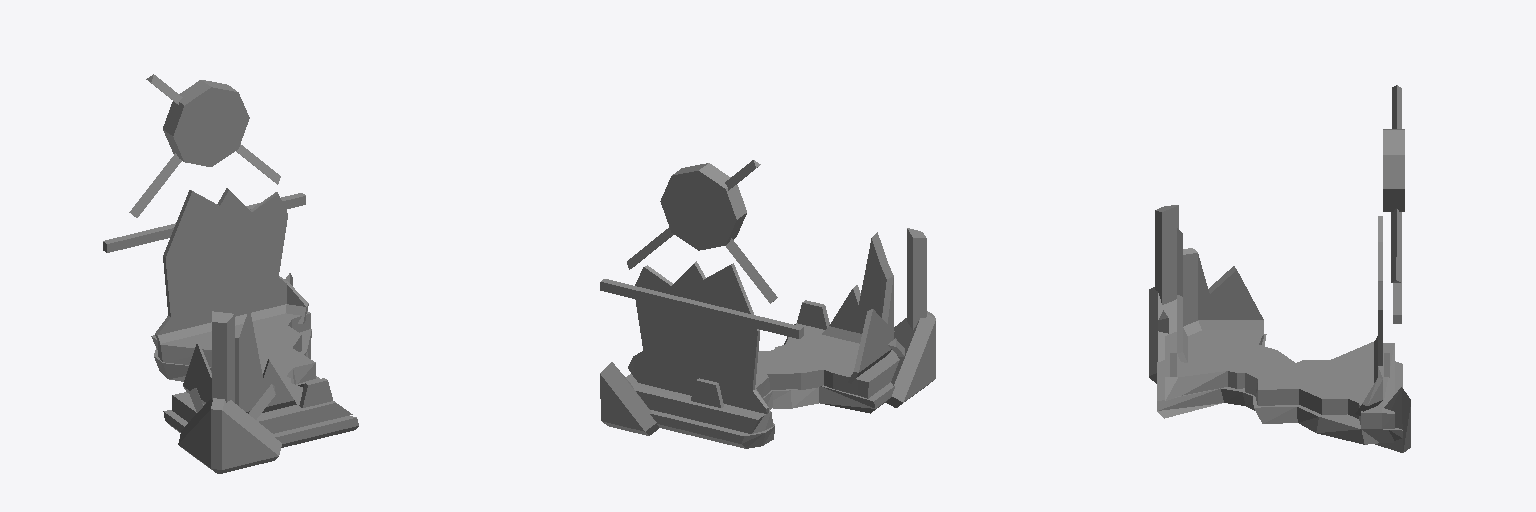
The model's file is cpz_obj_breakboxtall_brk_010.obj.
The picture shows the model from 3 angles: view 1: azimuth 30°, elevation 25°; view 2: azimuth 150°, elevation 25°; view 3: azimuth 270°, elevation 25°; orthographic projection.
Visible parts, largest first — view 1: cpz_glass_tn1_glasstube, cpz_metal_yy_slop_cmn_dpn, cpz_yy1_road_cmn_dp, cpz_metal_st1_tank01_cmn_dpnE, ccp_metal_yy_yelow_Cmn_dpn; view 2: cpz_glass_tn1_glasstube, cpz_metal_yy_slop_cmn_dpn, cpz_yy1_road_cmn_dp, ccp_metal_yy_yelow_Cmn_dpn, ccp_metal_yy_circle_Cmn_dpn, cpz_metal_st1_tank01_cmn_dpnE; view 3: cpz_metal_yy_slop_cmn_dpn, cpz_glass_tn1_glasstube, cpz_yy1_road_cmn_dp, ccp_metal_yy_yelow_Cmn_dpn, cpz_metal_st1_tank01_cmn_dpnE.
Boxes of the visible parts, <box> form: cpz_glass_tn1_glasstube: <box>155,188,308,413</box>; cpz_metal_yy_slop_cmn_dpn: <box>134,74,358,473</box>; cpz_yy1_road_cmn_dp: <box>103,75,305,419</box>; cpz_metal_st1_tank01_cmn_dpnE: <box>212,314,332,407</box>; ccp_metal_yy_yelow_Cmn_dpn: <box>151,335,352,433</box>; cpz_glass_tn1_glasstube: <box>628,232,893,413</box>; cpz_metal_yy_slop_cmn_dpn: <box>600,160,935,448</box>; cpz_yy1_road_cmn_dp: <box>600,160,926,356</box>; ccp_metal_yy_yelow_Cmn_dpn: <box>630,323,899,433</box>; ccp_metal_yy_circle_Cmn_dpn: <box>660,171,736,250</box>; cpz_metal_st1_tank01_cmn_dpnE: <box>691,229,926,407</box>; cpz_metal_yy_slop_cmn_dpn: <box>1149,205,1410,452</box>; cpz_glass_tn1_glasstube: <box>1177,216,1382,415</box>; cpz_yy1_road_cmn_dp: <box>1155,85,1404,333</box>; ccp_metal_yy_yelow_Cmn_dpn: <box>1165,332,1394,428</box>; cpz_metal_st1_tank01_cmn_dpnE: <box>1155,205,1389,377</box>.
Size of the model in its own units: 67.4 by 90.42 by 71.91.